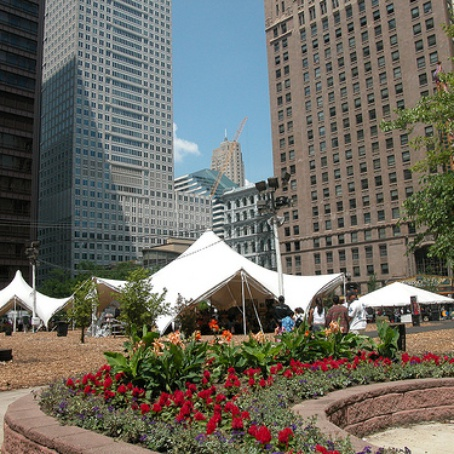building: (271, 1, 454, 271), (47, 1, 197, 257), (1, 1, 45, 263), (193, 138, 270, 259)
flowers: (37, 329, 454, 454)
tent: (97, 219, 336, 329), (1, 263, 86, 340), (349, 260, 454, 322)
